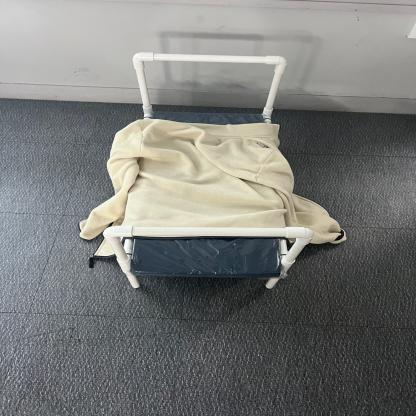np: (75, 31, 383, 337)
